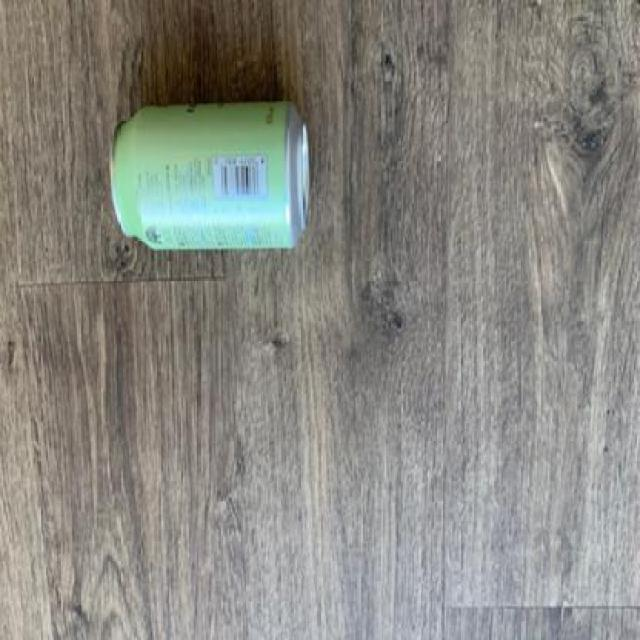Metal: (109, 98, 312, 250)
